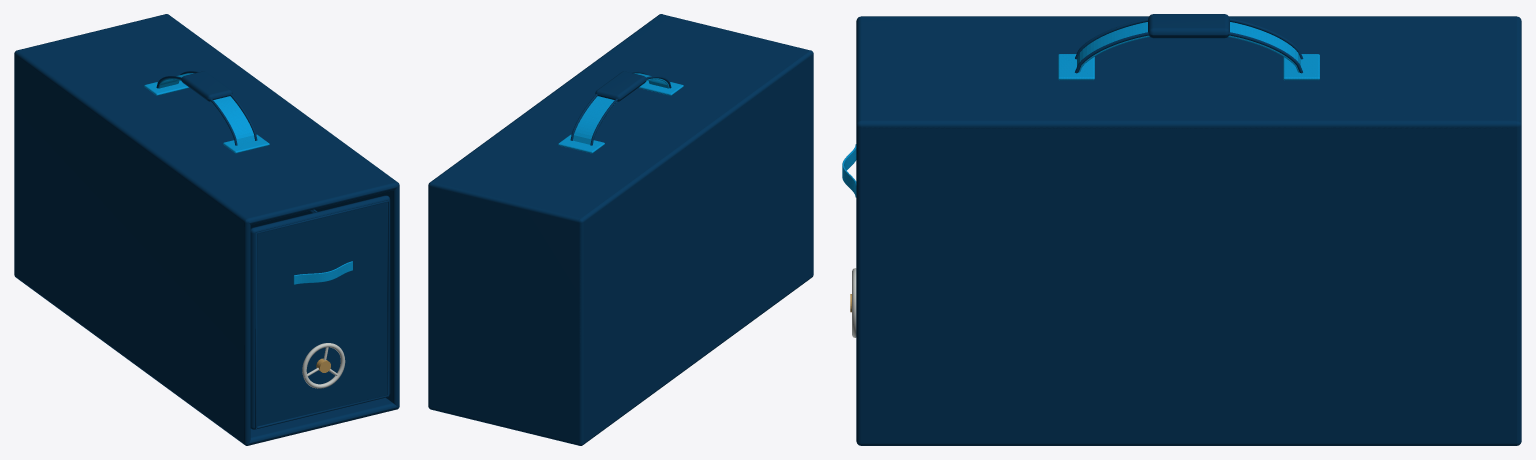
Rendered from wave-volume-3-storage.glb.
The picture shows the model from 3 angles, left to right: view 1: azimuth 30°, elevation 25°; view 2: azimuth 150°, elevation 25°; view 3: azimuth 270°, elevation 25°; orthographic projection. The views are drawn at different scales.
Parts seen in each view (by area): view 1: Cabinet_side, Cabinet_top, Drawer_front, Cabinet_side.001, Cabinet_bottom, Front_sewn_edge, Carry_handle_webbing, Carry_handle_padded_grip, Handwheel_rim, Drawer_webbing_pull, Cabinet_back, Carry_handle_anchor; view 2: Cabinet_side, Cabinet_back, Cabinet_top, Carry_handle_webbing, Carry_handle_padded_grip, Cabinet_side.001, Carry_handle_anchor.001; view 3: Cabinet_side.001, Cabinet_top, Carry_handle_padded_grip, Cabinet_back, Carry_handle_webbing, Carry_handle_anchor, Carry_handle_anchor.001, Carry_handle_binding.001, Cabinet_bottom.
Boxes of the visible parts, left/top/right/bottom form: Cabinet_side: left=15, top=50, right=250, bottom=445; Cabinet_top: left=15, top=14, right=397, bottom=224; Drawer_front: left=250, top=195, right=390, bottom=429; Cabinet_side.001: left=166, top=14, right=399, bottom=409; Cabinet_bottom: left=15, top=275, right=397, bottom=445; Front_sewn_edge: left=255, top=200, right=389, bottom=428; Carry_handle_webbing: left=158, top=73, right=254, bottom=144; Carry_handle_padded_grip: left=181, top=71, right=232, bottom=101; Handwheel_rim: left=302, top=343, right=345, bottom=388; Drawer_webbing_pull: left=293, top=261, right=352, bottom=284; Cabinet_back: left=14, top=14, right=166, bottom=275; Carry_handle_anchor: left=223, top=134, right=269, bottom=153; Cabinet_side: left=579, top=50, right=813, bottom=445; Cabinet_back: left=428, top=182, right=583, bottom=445; Cabinet_top: left=432, top=14, right=812, bottom=218; Carry_handle_webbing: left=573, top=73, right=669, bottom=144; Carry_handle_padded_grip: left=595, top=71, right=646, bottom=101; Cabinet_side.001: left=428, top=14, right=661, bottom=409; Carry_handle_anchor.001: left=558, top=134, right=604, bottom=153; Cabinet_side.001: left=856, top=120, right=1521, bottom=445; Cabinet_top: left=856, top=17, right=1516, bottom=128; Carry_handle_padded_grip: left=1148, top=14, right=1229, bottom=38; Cabinet_back: left=1516, top=16, right=1521, bottom=445; Carry_handle_webbing: left=1077, top=22, right=1300, bottom=72; Carry_handle_anchor: left=1058, top=54, right=1094, bottom=80; Carry_handle_anchor.001: left=1283, top=54, right=1319, bottom=80; Carry_handle_binding.001: left=1075, top=32, right=1302, bottom=73; Cabinet_bottom: left=862, top=442, right=1515, bottom=442.
Size of what is drawn, in the model's own units: 0.127 by 0.204 by 0.3372.
Materials: 5 (3 with a texture image).
